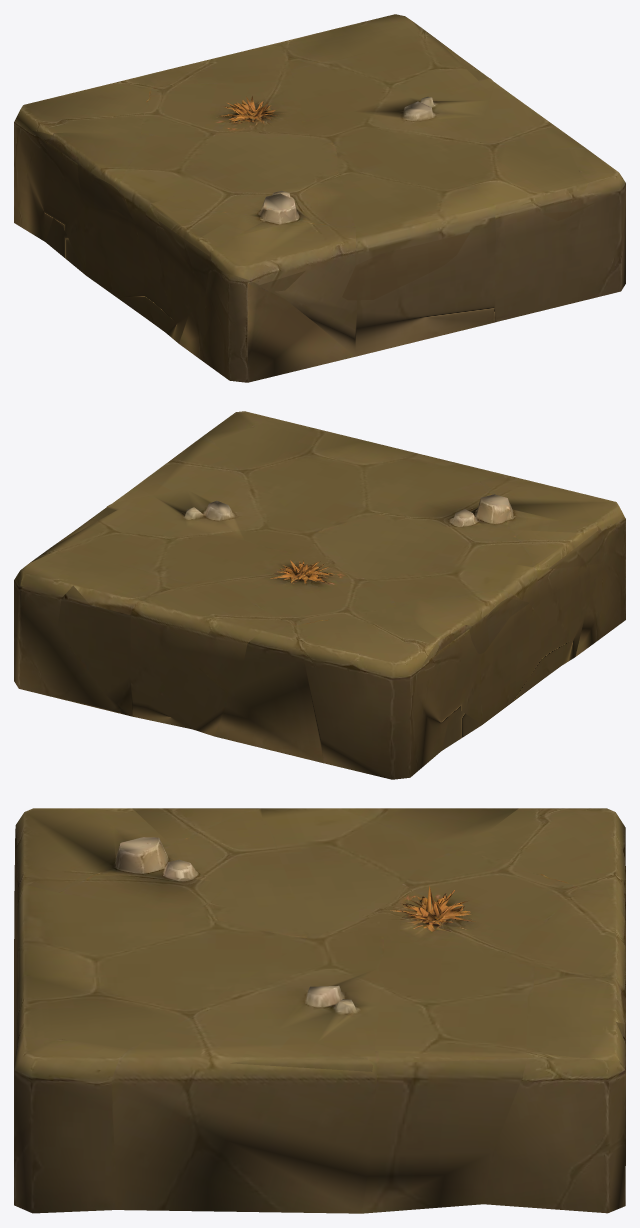
The model's file is flat.glb.
3 renders of one model, top to bottom at view 1: azimuth 30°, elevation 25°; view 2: azimuth 150°, elevation 25°; view 3: azimuth 270°, elevation 25°, orthographic. The views are drawn at different scales.
Size of the model in its own units: 1.9 by 0.5932 by 1.9.
Materials: 1 (1 with a texture image).
